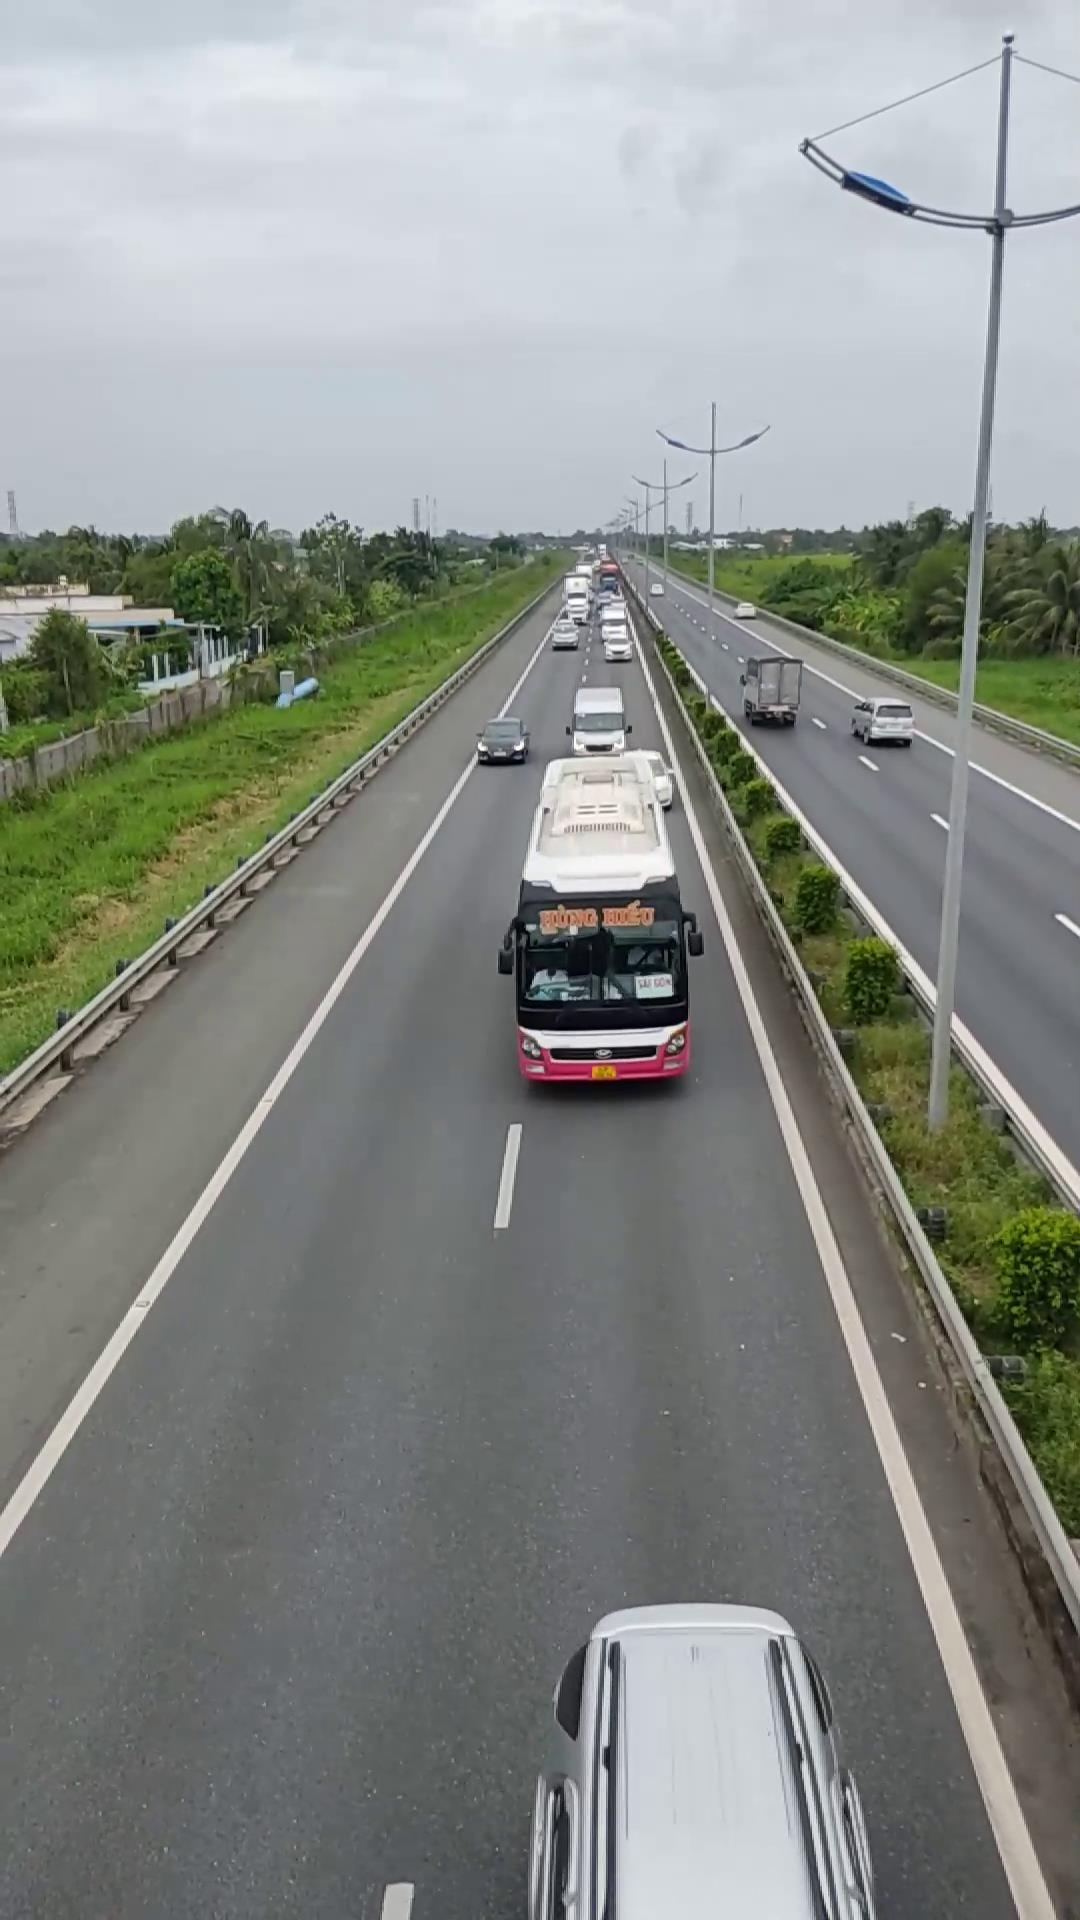bus: (499, 757, 699, 1090)
car: (521, 1599, 874, 1920)
truck: (739, 652, 800, 725)
